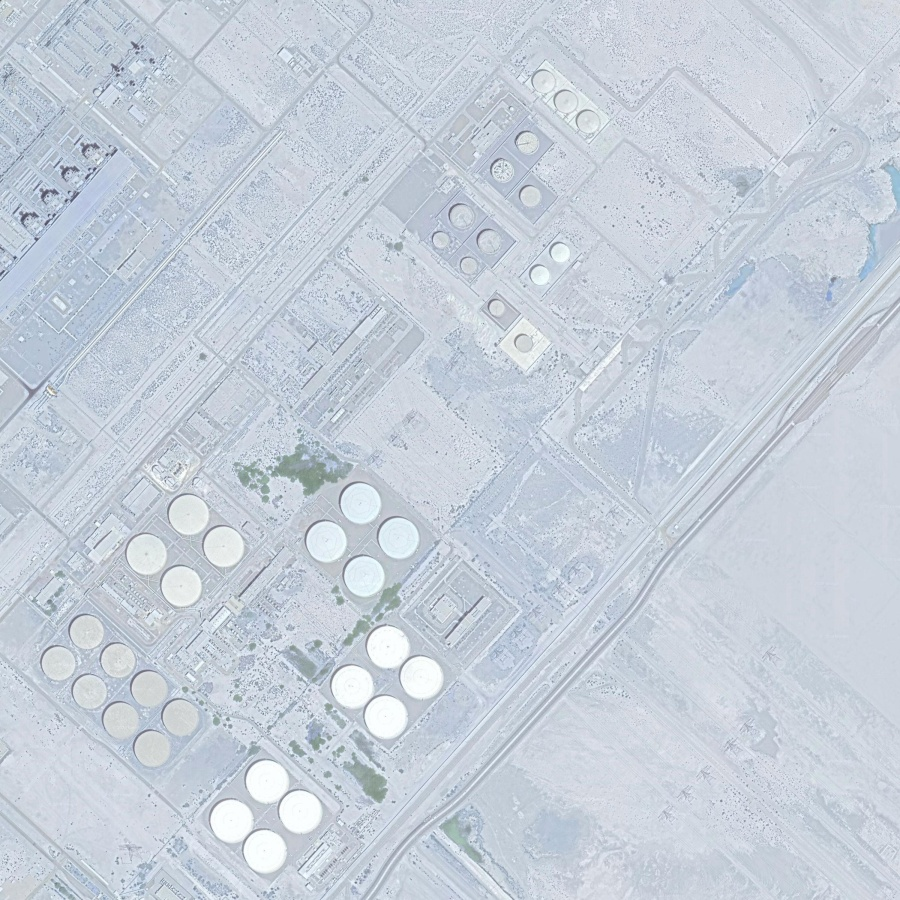PowerPlant: (31, 433, 481, 893), (420, 63, 632, 360)
